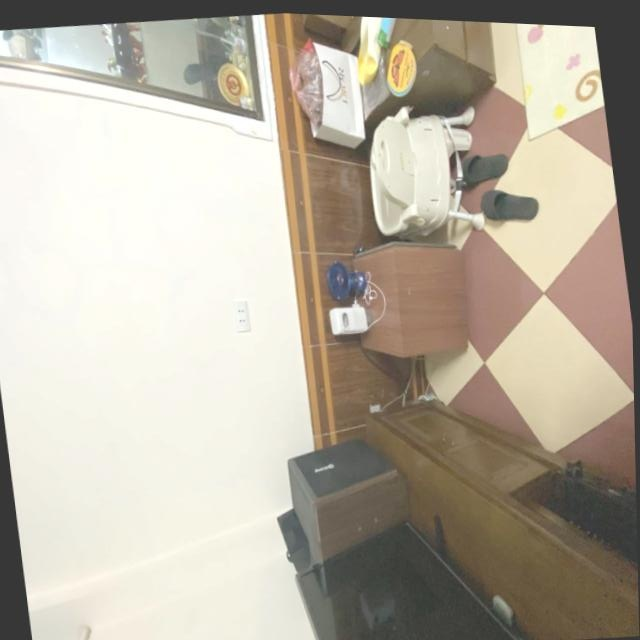outlet: (231, 300, 250, 334)
